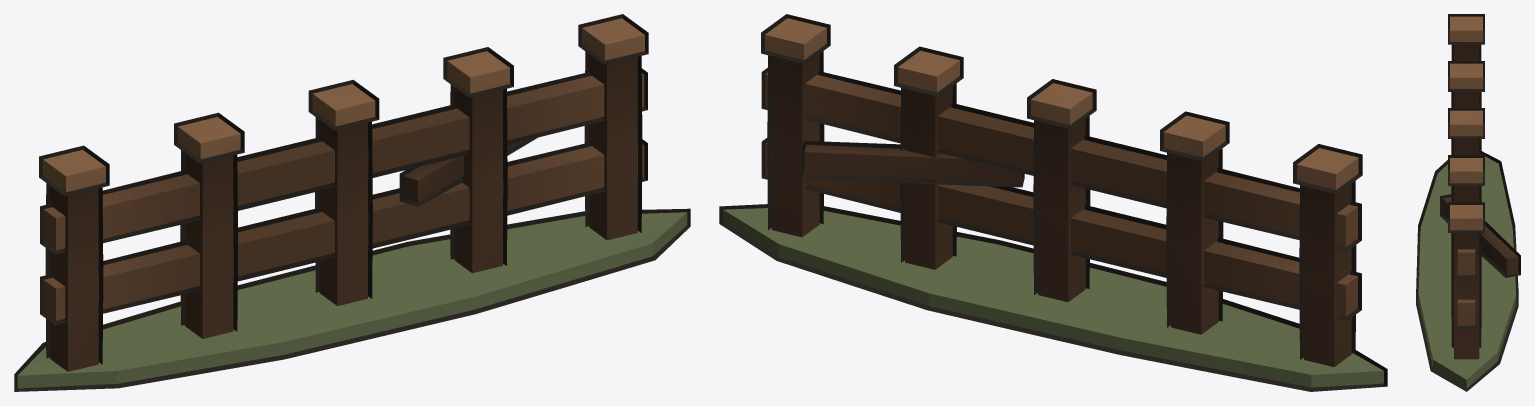
File: cloture_basse.glb
3 views of the same model, side by side, from view 1: azimuth 30°, elevation 25°; view 2: azimuth 150°, elevation 25°; view 3: azimuth 270°, elevation 25° (orthographic). The views are drawn at different scales.
Parts seen in each view (by area): view 1: cloture_basse, cloture_basse_outline; view 2: cloture_basse, cloture_basse_outline; view 3: cloture_basse, cloture_basse_outline.
Part boxes in pixels (bbox=[...]): cloture_basse: bbox=[17, 18, 687, 388]; cloture_basse_outline: bbox=[14, 14, 690, 391]; cloture_basse: bbox=[723, 18, 1383, 387]; cloture_basse_outline: bbox=[719, 14, 1387, 391]; cloture_basse: bbox=[1418, 16, 1518, 388]; cloture_basse_outline: bbox=[1416, 14, 1520, 391].
Bounding box in the file's own units: 2.21 × 0.678 × 0.4143.
